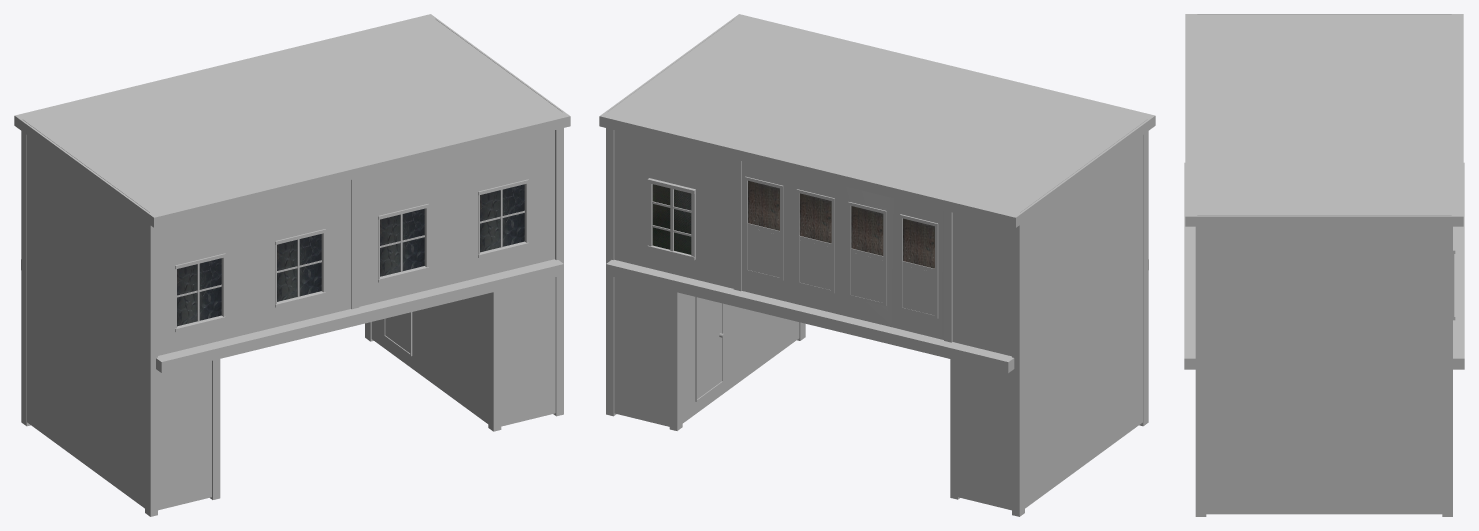
The model's file is apart_poor_05a.fbx.
3 renders of one model, left to right at view 1: azimuth 30°, elevation 25°; view 2: azimuth 150°, elevation 25°; view 3: azimuth 270°, elevation 25°, orthographic.
Visible parts, largest first — view 1: apart_poor_05a; view 2: apart_poor_05a; view 3: apart_poor_05a.
Boxes of the visible parts, x1,y1,x2,y2 form: apart_poor_05a: (14,14,570,516); apart_poor_05a: (599,14,1155,516); apart_poor_05a: (1184,14,1464,516).
Bounding box in the file's own units: 8.02 × 5.59 × 4.69.
